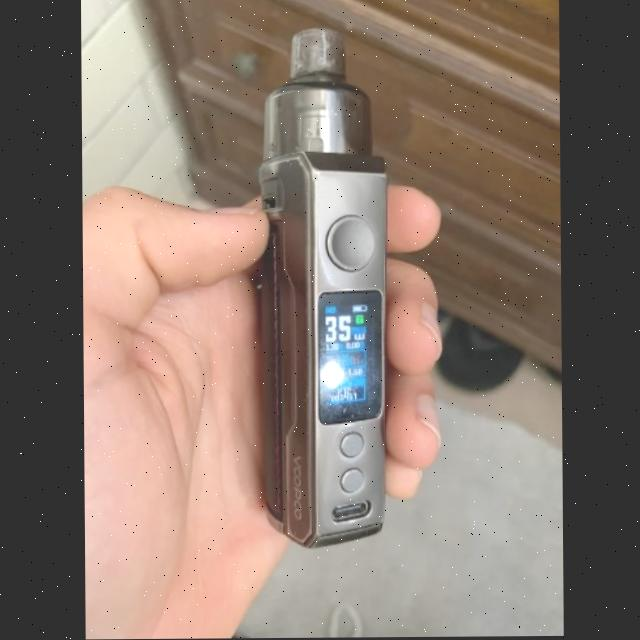vape: (257, 27, 392, 552)
